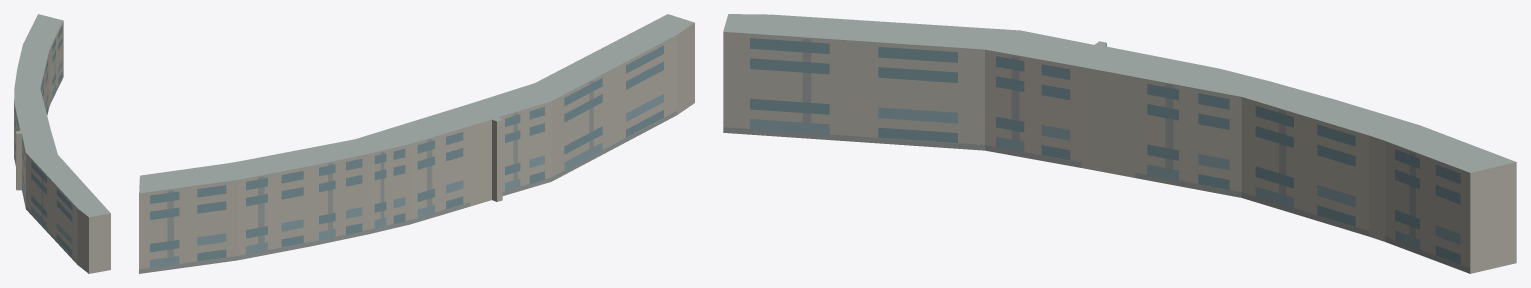
Rendered from survey-upis-32691414.glb.
The picture shows the model from 3 angles, left to right: view 1: azimuth 30°, elevation 25°; view 2: azimuth 150°, elevation 25°; view 3: azimuth 270°, elevation 25°; orthographic projection. The views are drawn at different scales.
Visible parts, largest first — view 1: survey-upis-32691414.tmp; view 2: survey-upis-32691414.tmp; view 3: survey-upis-32691414.tmp.
Boxes of the visible parts, bbox=[...] form: survey-upis-32691414.tmp: bbox=[14, 14, 110, 273]; survey-upis-32691414.tmp: bbox=[139, 14, 694, 273]; survey-upis-32691414.tmp: bbox=[723, 14, 1516, 273].
Size of the model in its own units: 51.43 by 15.25 by 109.
